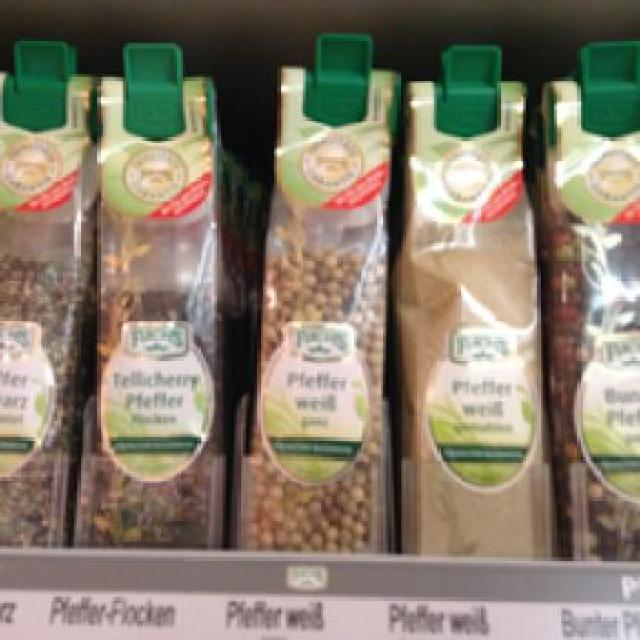Spices: (242, 60, 395, 546), (400, 76, 549, 552), (89, 71, 214, 548), (537, 77, 637, 560), (0, 70, 83, 544)
